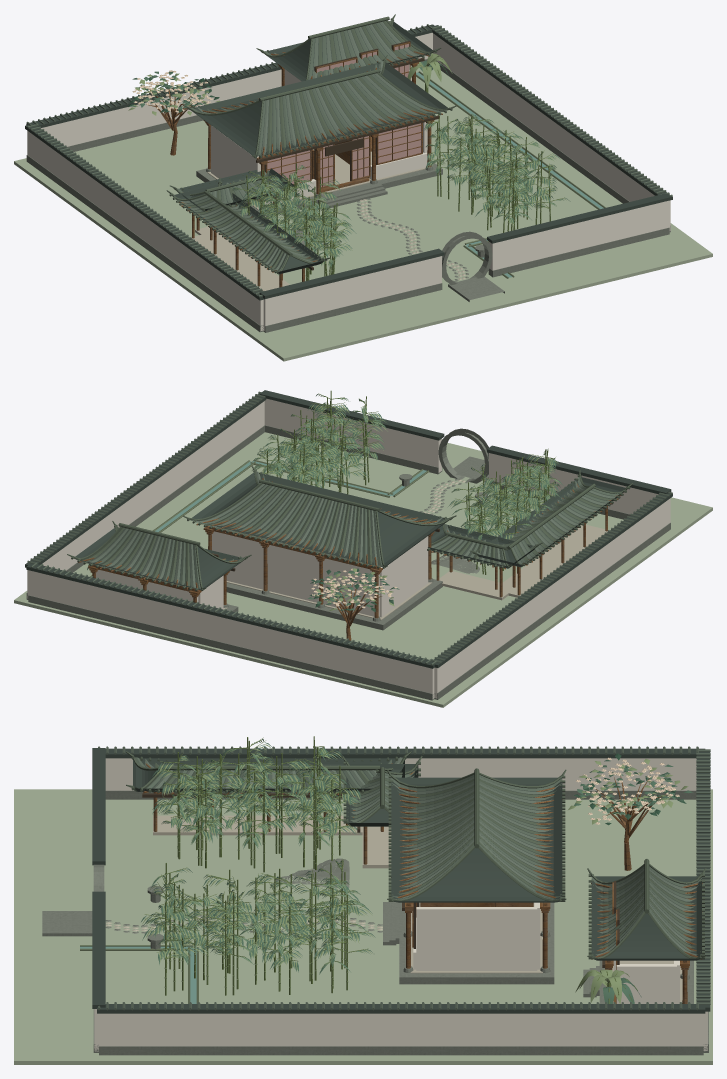
The model's file is public_models_places_xiaoxiangguan.glb.
3 views of the same model, one above another, from view 1: azimuth 30°, elevation 25°; view 2: azimuth 150°, elevation 25°; view 3: azimuth 270°, elevation 25° (orthographic). The views are drawn at different scales.
Parts seen in each view (by area): view 1: xiaoxiangguan_earth.001, xiaoxiangguan_plaster.001, xiaoxiangguan_roof.001, xiaoxiangguan_stone.001, xiaoxiangguan_tile.001, xiaoxiangguan_tiledark, xiaoxiangguan_lightleaf.001, xiaoxiangguan_leaf.001, xiaoxiangguan_bamboo.001, xiaoxiangguan_tilelight, xiaoxiangguan_wood.001, xiaoxiangguan_silk (+5 smaller); view 2: xiaoxiangguan_plaster.001, xiaoxiangguan_earth.001, xiaoxiangguan_roof.001, xiaoxiangguan_stone.001, xiaoxiangguan_tile.001, xiaoxiangguan_tiledark, xiaoxiangguan_leaf.001, xiaoxiangguan_lightleaf.001, xiaoxiangguan_tilelight, xiaoxiangguan_bamboo.001, xiaoxiangguan_wood.001, xiaoxiangguan_paving (+3 smaller); view 3: xiaoxiangguan_earth.001, xiaoxiangguan_plaster.001, xiaoxiangguan_roof.001, xiaoxiangguan_lightleaf.001, xiaoxiangguan_leaf.001, xiaoxiangguan_tile.001, xiaoxiangguan_stone.001, xiaoxiangguan_bamboo.001, xiaoxiangguan_tiledark, xiaoxiangguan_tilelight, xiaoxiangguan_wood.001, xiaoxiangguan_paving (+6 smaller).
Part boxes in pixels (box(x1,y1,x2,y2)): xiaoxiangguan_earth.001: box(14, 68, 712, 361); xiaoxiangguan_plaster.001: box(27, 32, 670, 331); xiaoxiangguan_roof.001: box(25, 21, 672, 300); xiaoxiangguan_stone.001: box(26, 59, 670, 332); xiaoxiangguan_tile.001: box(26, 22, 672, 297); xiaoxiangguan_tiledark: box(166, 14, 456, 273); xiaoxiangguan_lightleaf.001: box(128, 53, 566, 278); xiaoxiangguan_leaf.001: box(129, 60, 570, 267); xiaoxiangguan_bamboo.001: box(235, 53, 564, 280); xiaoxiangguan_tilelight: box(173, 21, 448, 270); xiaoxiangguan_wood.001: box(148, 42, 442, 287); xiaoxiangguan_silk: box(267, 43, 421, 186); xiaoxiangguan_plaster.001: box(27, 398, 670, 698); xiaoxiangguan_earth.001: box(14, 432, 712, 707); xiaoxiangguan_roof.001: box(25, 390, 672, 668); xiaoxiangguan_stone.001: box(26, 425, 670, 700); xiaoxiangguan_tile.001: box(27, 391, 672, 665); xiaoxiangguan_tiledark: box(67, 465, 632, 590); xiaoxiangguan_leaf.001: box(87, 394, 563, 610); xiaoxiangguan_lightleaf.001: box(252, 394, 560, 611); xiaoxiangguan_tilelight: box(81, 471, 623, 588); xiaoxiangguan_bamboo.001: box(258, 390, 556, 574); xiaoxiangguan_wood.001: box(78, 478, 620, 640); xiaoxiangguan_paving: box(223, 479, 607, 620); xiaoxiangguan_earth.001: box(14, 789, 712, 1064); xiaoxiangguan_plaster.001: box(94, 758, 707, 1051); xiaoxiangguan_roof.001: box(92, 748, 710, 1013); xiaoxiangguan_lightleaf.001: box(142, 740, 688, 1003); xiaoxiangguan_leaf.001: box(141, 739, 693, 1003); xiaoxiangguan_tile.001: box(98, 746, 710, 1010); xiaoxiangguan_stone.001: box(42, 790, 708, 1055); xiaoxiangguan_bamboo.001: box(144, 736, 637, 1003); xiaoxiangguan_tiledark: box(126, 751, 706, 960); xiaoxiangguan_tilelight: box(143, 757, 698, 955); xiaoxiangguan_wood.001: box(143, 763, 702, 1003); xiaoxiangguan_paving: box(105, 815, 682, 1003).
Bounding box in the file's own units: 34 × 7.26 × 37.
Materials: 19 (2 with a texture image).
